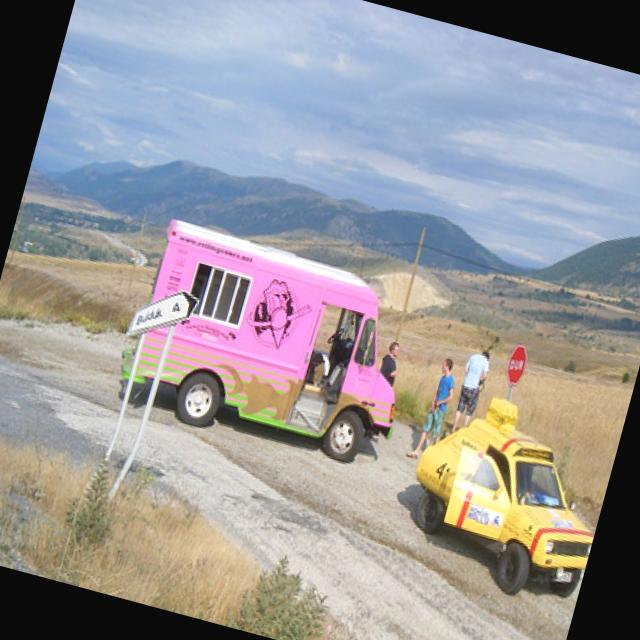Vehicle: (116, 217, 432, 477), (389, 380, 622, 610), (391, 402, 616, 610)
